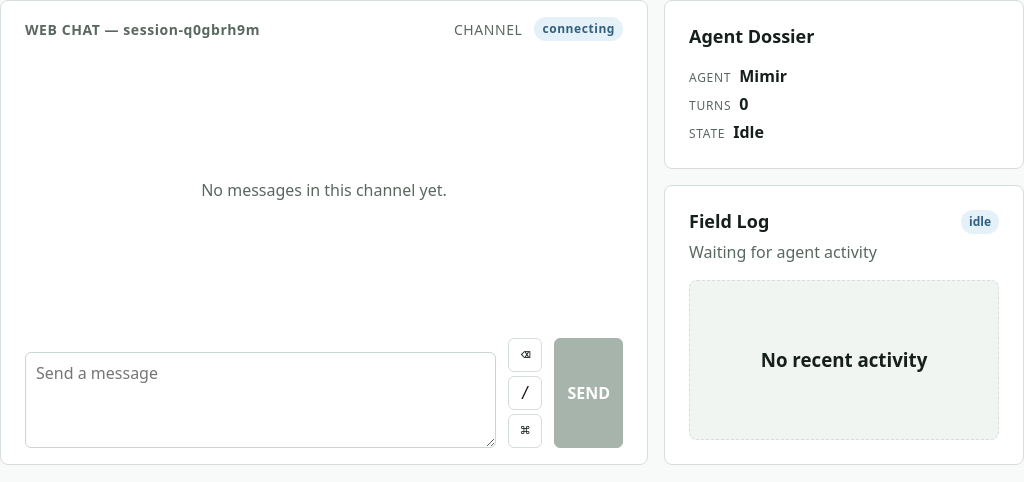
Test: ChatRoute › submits optimistically, clears the composer, and marks accepted messages done
This screenshot has width=1024, height=482.
Type "hello mimir" into the text box labelled "message" at coordinates (261, 400), box [25,352,496,448]
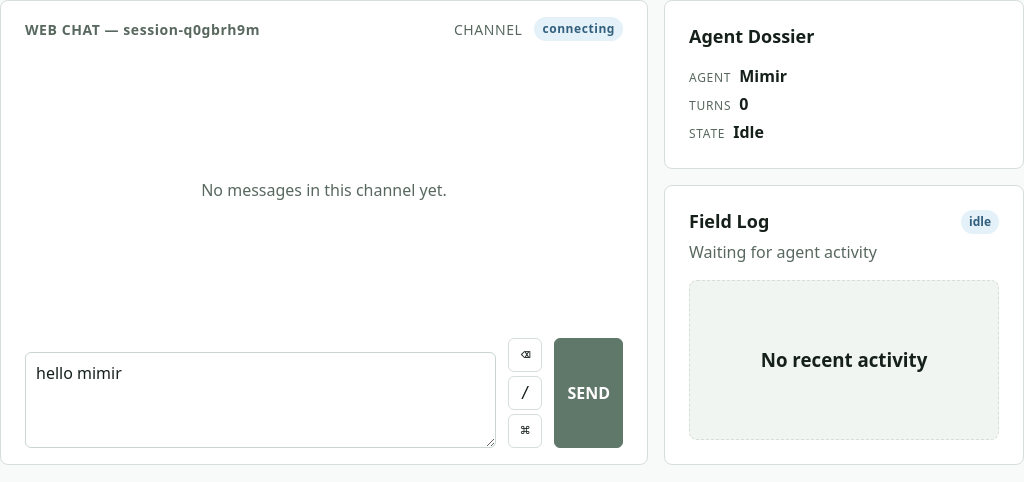
Submit the form named "Message", box [25,338,623,448]
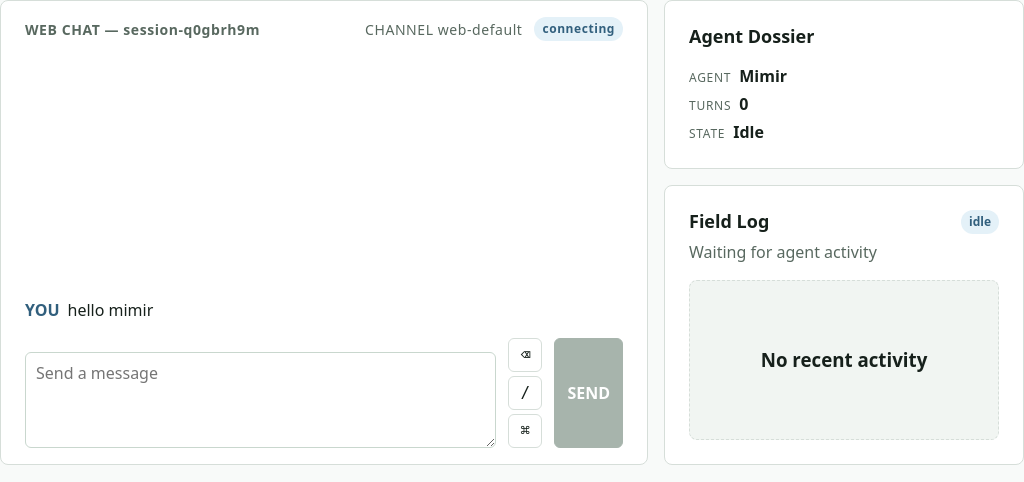
Check: the text box labelled "message" is empty, box [25,352,496,448]
Check: the text "hello mimir" is shown, box [68,299,153,321]
